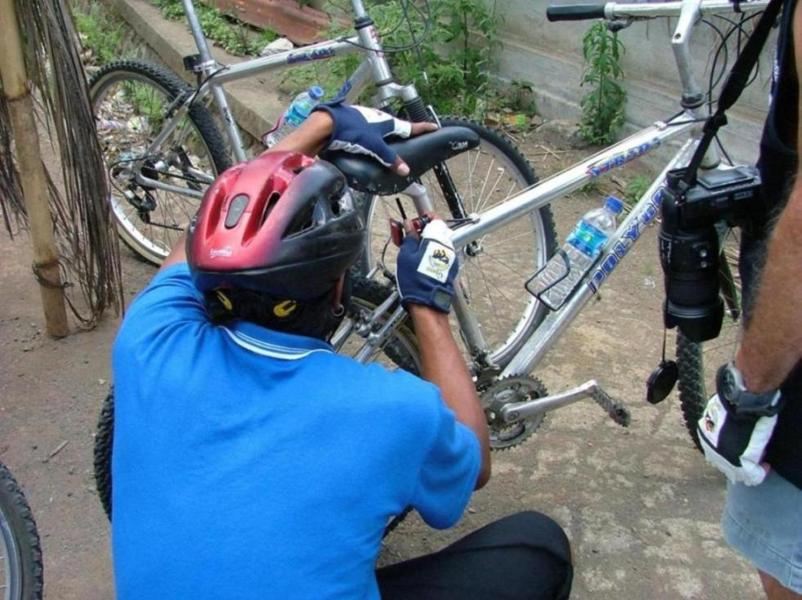person: (110, 103, 574, 599)
